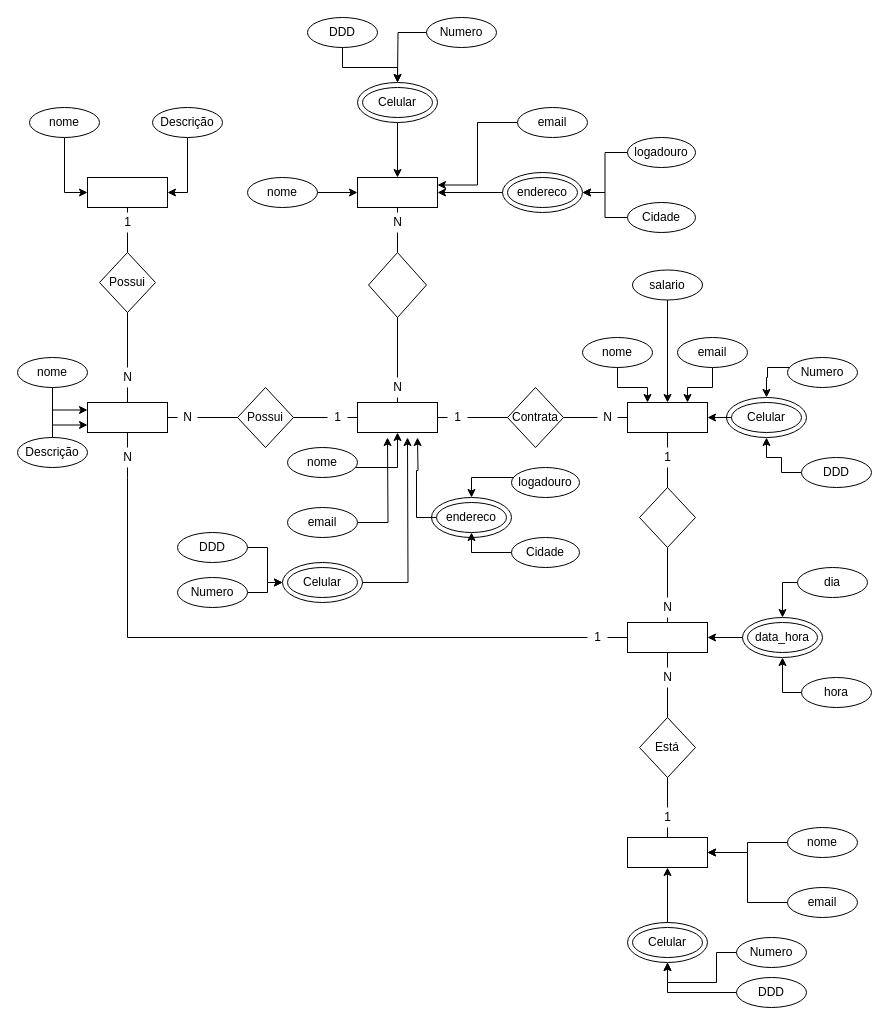
Some shapes in this 889 by 1025 pixel diagram are drawn without their labels. Each missing label, with the centre of its shape:
abastece: the point at 397,285
Categoria: the point at 127,192
Cliente: the point at 667,852
efetua: the point at 667,517
Filial: the point at 397,417
Fornecedor: the point at 397,192
Funcionário: the point at 667,417
Produto: the point at 127,417
Venda: the point at 667,637
